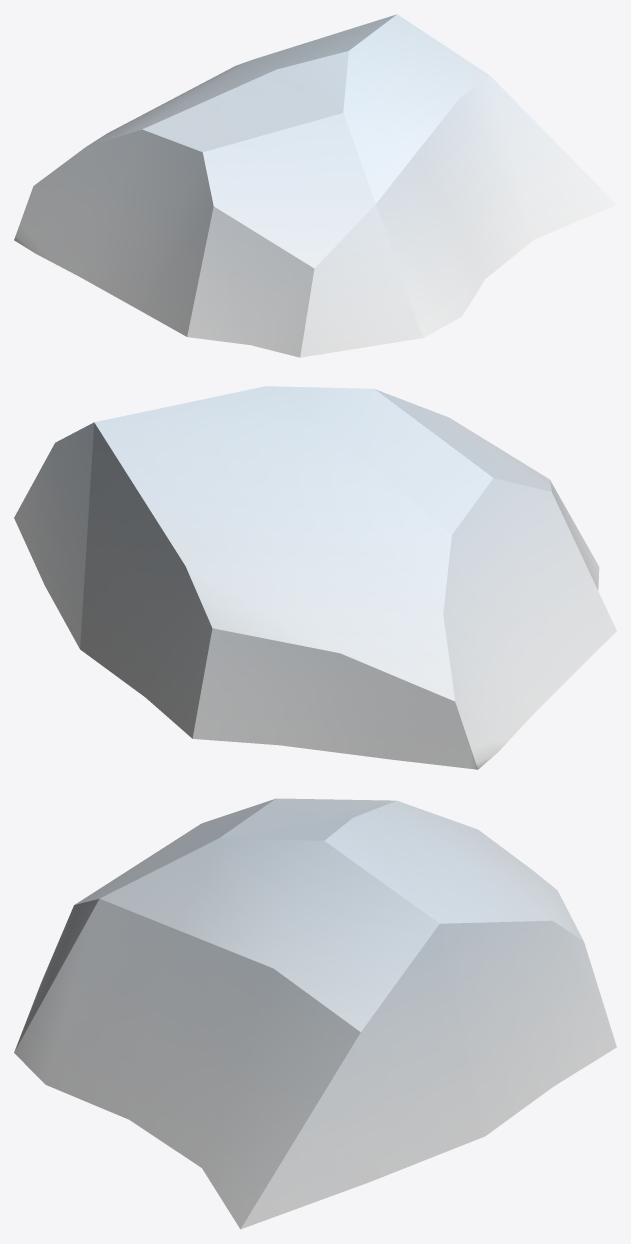
File: Mountain_Stone_White_003.FBX
3 renders of one model, top to bottom at view 1: azimuth 30°, elevation 25°; view 2: azimuth 150°, elevation 25°; view 3: azimuth 270°, elevation 25°, orthographic. The views are drawn at different scales.
Visible parts, largest first — view 1: Mountain_Stone_White_003; view 2: Mountain_Stone_White_003; view 3: Mountain_Stone_White_003.
Boxes of the visible parts, <box> form: Mountain_Stone_White_003: <box>14,14,616,357</box>; Mountain_Stone_White_003: <box>14,386,616,769</box>; Mountain_Stone_White_003: <box>14,798,616,1229</box>.
Size of the model in its own units: 588 by 215 by 489.
Materials: 1 (1 with a texture image).
